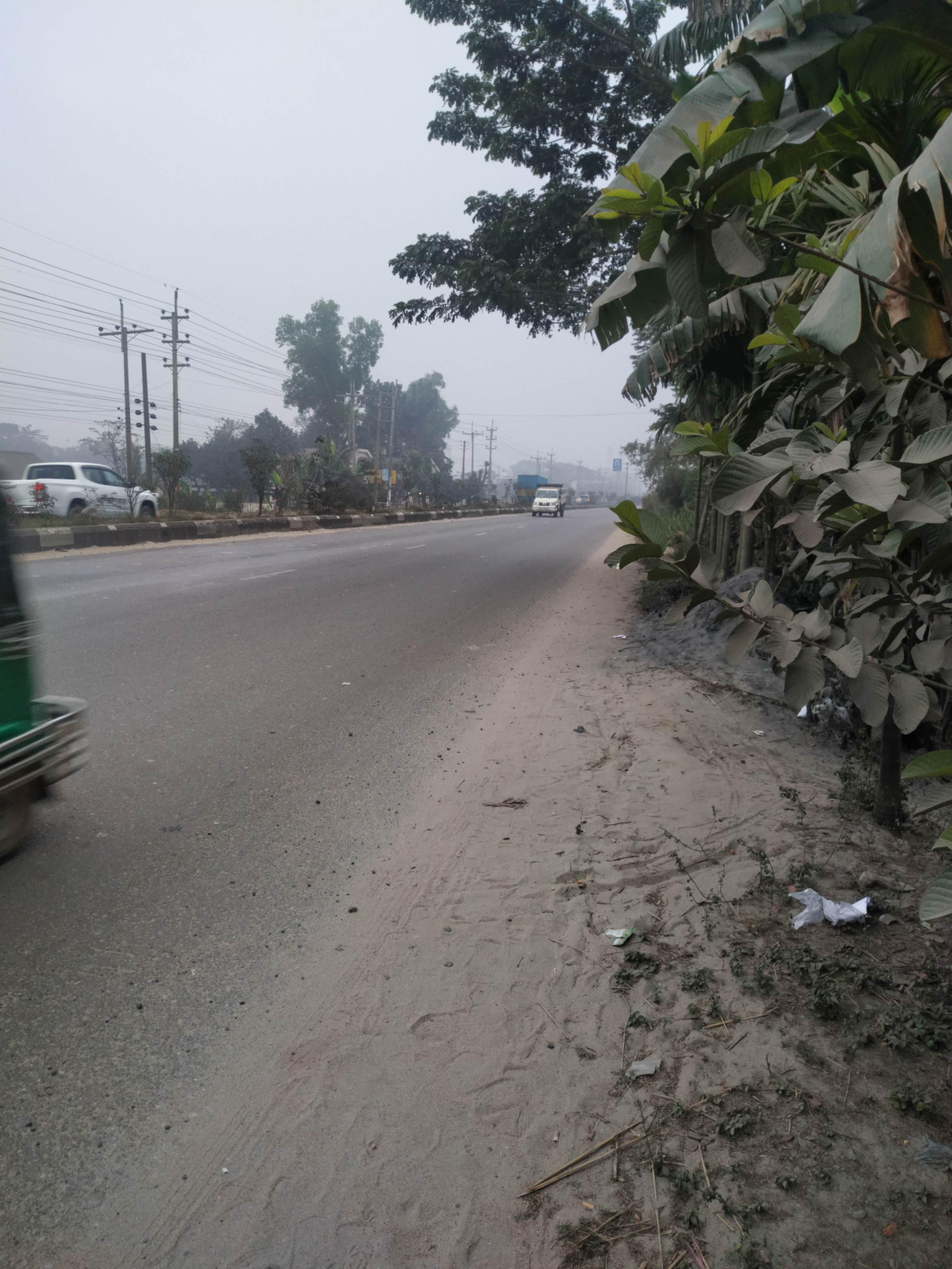Truck: (5, 445, 182, 531), (518, 476, 584, 536)
